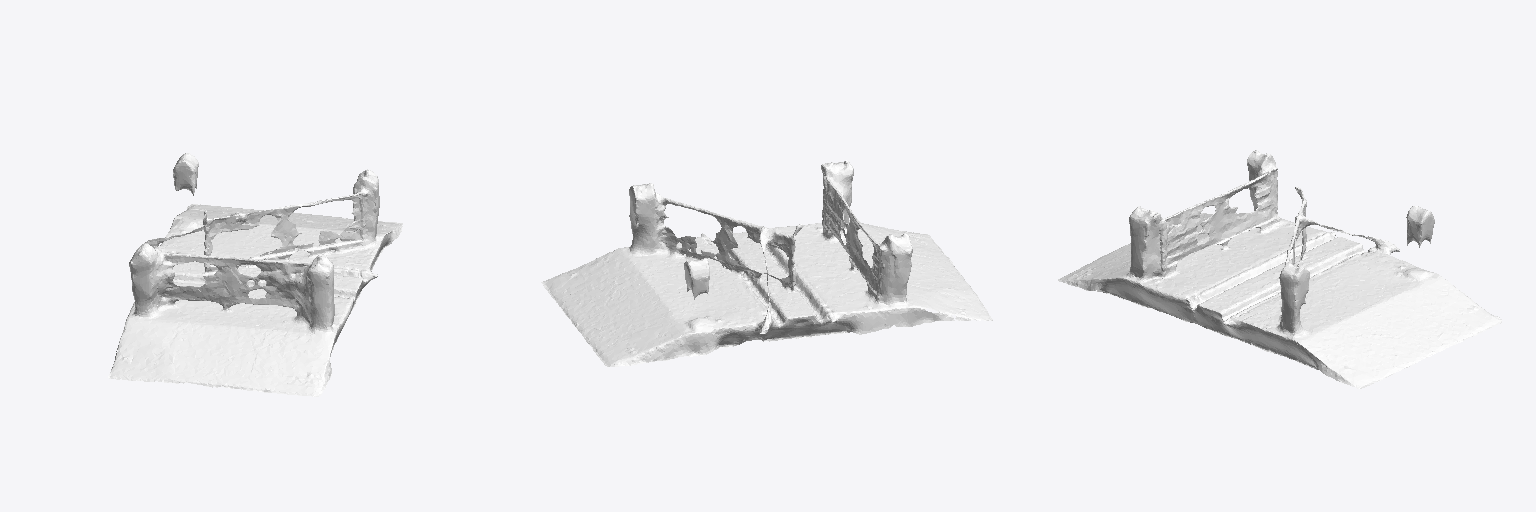
Rendered from farm.obj.
3 views of the same model, side by side, from view 1: azimuth 30°, elevation 25°; view 2: azimuth 150°, elevation 25°; view 3: azimuth 270°, elevation 25° (orthographic).
Size of the model in its own units: 26.16 by 6.5 by 26.93.